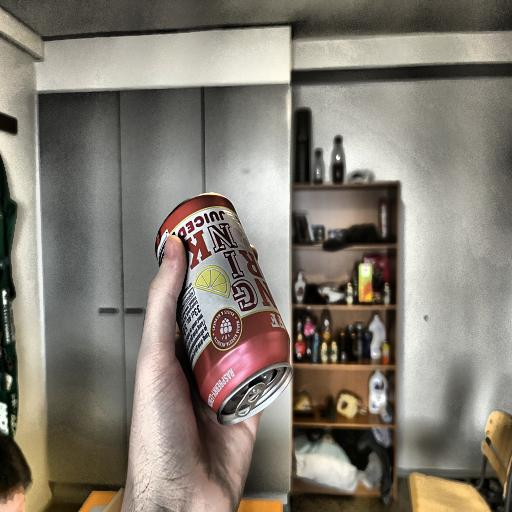koff: (148, 186, 302, 418)
